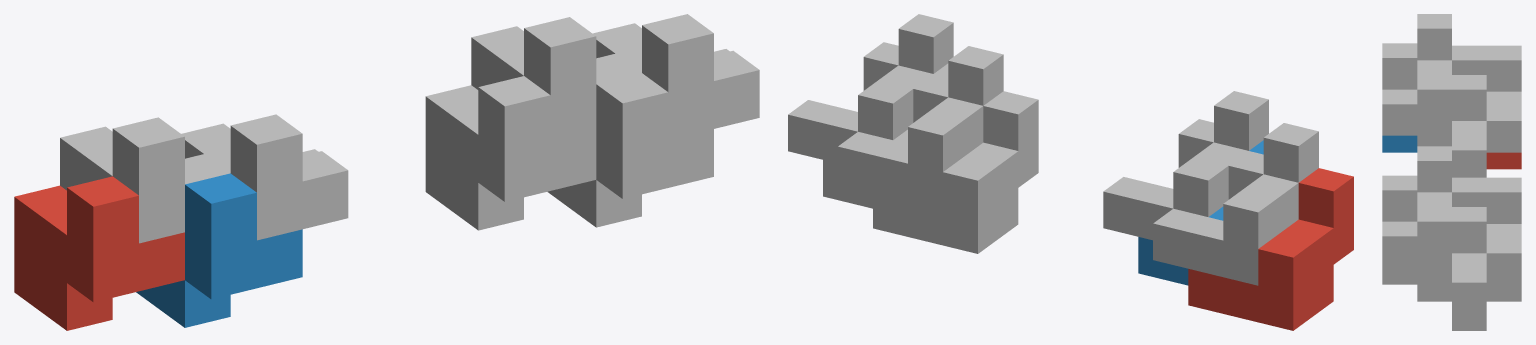
The model's file is tiling.obj.
3 views of the same model, side by side, from view 1: azimuth 30°, elevation 25°; view 2: azimuth 150°, elevation 25°; view 3: azimuth 270°, elevation 25° (orthographic). The views are drawn at different scales.
Visible parts, largest first — view 1: copy_1_domain_5, copy_1_domain_1, copy_1_domain_6, copy_1_domain_2, copy_1_domain_4, copy_1_domain_8, copy_1_domain_7, copy_1_domain_3; view 2: copy_1_domain_3, copy_1_domain_7, copy_1_domain_5, copy_1_domain_1, copy_1_domain_8, copy_1_domain_4, copy_1_domain_2, copy_1_domain_6; view 3: copy_1_domain_8, copy_1_domain_4, copy_1_domain_3, copy_1_domain_7, copy_1_domain_6, copy_1_domain_2, copy_1_domain_5, copy_1_domain_1.
Boxes of the visible parts, <box> form: copy_1_domain_5: <box>425,76,596,230</box>; copy_1_domain_1: <box>14,176,184,330</box>; copy_1_domain_6: <box>547,73,713,227</box>; copy_1_domain_2: <box>136,173,302,327</box>; copy_1_domain_4: <box>181,114,348,240</box>; copy_1_domain_8: <box>593,14,759,139</box>; copy_1_domain_7: <box>471,17,641,142</box>; copy_1_domain_3: <box>60,117,229,243</box>; copy_1_domain_3: <box>1153,123,1318,285</box>; copy_1_domain_7: <box>838,46,1003,208</box>; copy_1_domain_5: <box>873,91,1038,253</box>; copy_1_domain_1: <box>1188,168,1353,330</box>; copy_1_domain_8: <box>788,14,953,163</box>; copy_1_domain_4: <box>1103,91,1268,240</box>; copy_1_domain_2: <box>1138,140,1263,285</box>; copy_1_domain_6: <box>823,63,948,208</box>; copy_1_domain_8: <box>1382,175,1486,314</box>; copy_1_domain_4: <box>1382,43,1486,177</box>; copy_1_domain_3: <box>1417,14,1521,152</box>; copy_1_domain_7: <box>1417,146,1521,284</box>; copy_1_domain_6: <box>1382,268,1486,330</box>; copy_1_domain_2: <box>1382,135,1417,152</box>; copy_1_domain_5: <box>1486,284,1521,301</box>; copy_1_domain_1: <box>1486,152,1521,169</box>.
Size of the model in its own units: 15 by 4 by 4.
